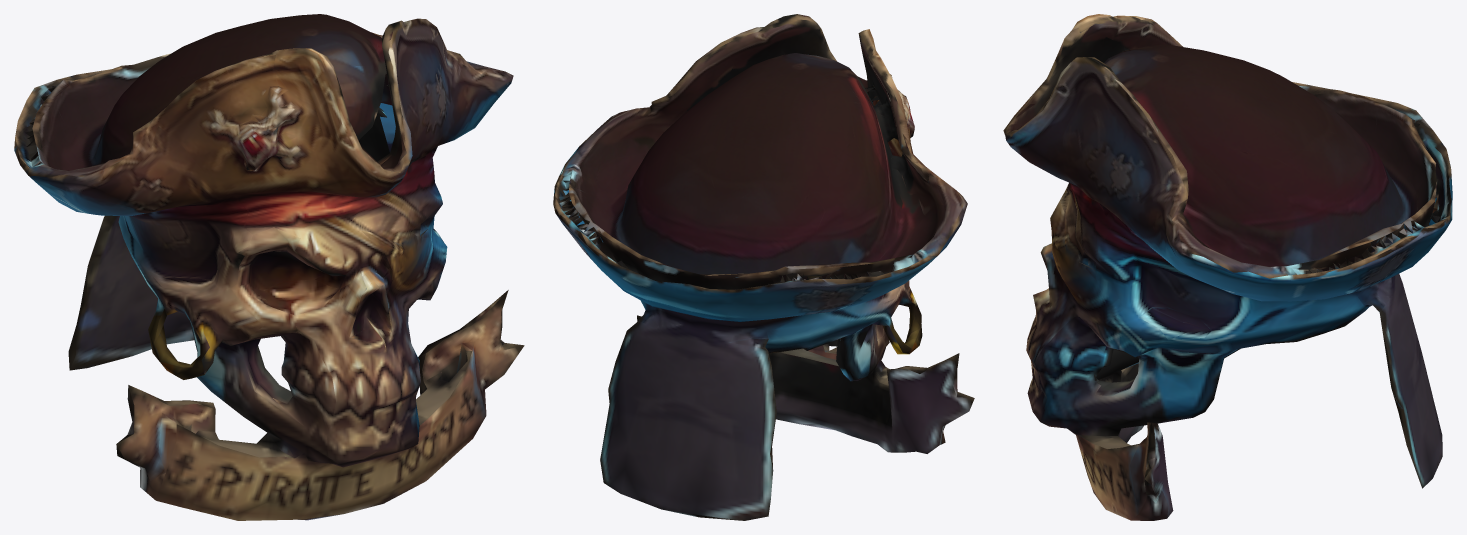
The model's file is skull.glb.
3 renders of one model, left to right at view 1: azimuth 30°, elevation 25°; view 2: azimuth 150°, elevation 25°; view 3: azimuth 270°, elevation 25°, orthographic. The views are drawn at different scales.
Visible parts, largest first — view 1: Pirate Skull; view 2: Pirate Skull; view 3: Pirate Skull.
Boxes of the visible parts, box(x1,y1,x2,y2) form: Pirate Skull: box(14, 14, 524, 520); Pirate Skull: box(553, 14, 974, 520); Pirate Skull: box(1003, 14, 1452, 520).
Size of the model in its own units: 0.3426 by 0.35 by 0.3212.
Materials: 1 (1 with a texture image).
